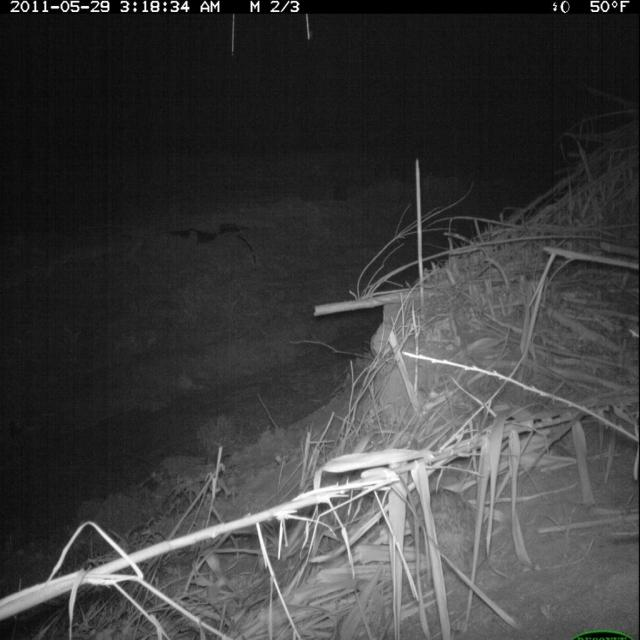rabbit: (416, 473, 528, 573)
